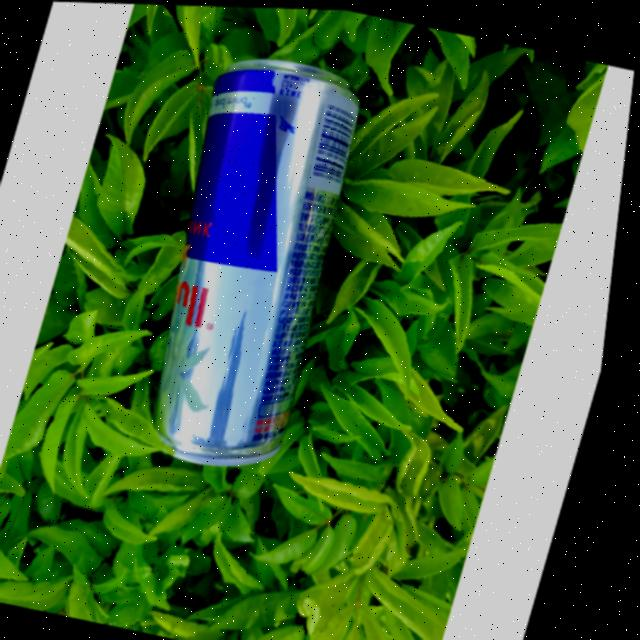Redbull: (107, 39, 393, 485)
